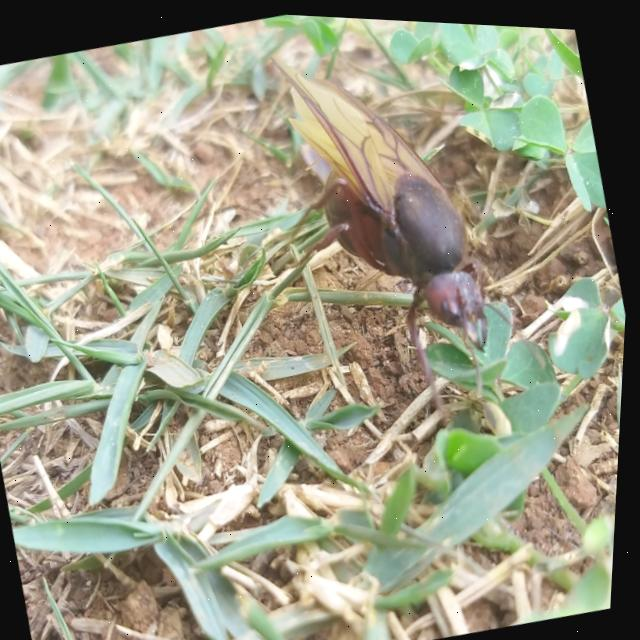Alive-Female-Alate: (234, 10, 571, 444)
